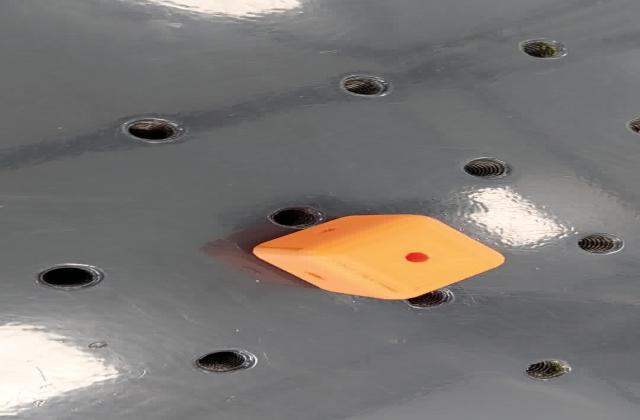cube: (246, 209, 511, 304)
